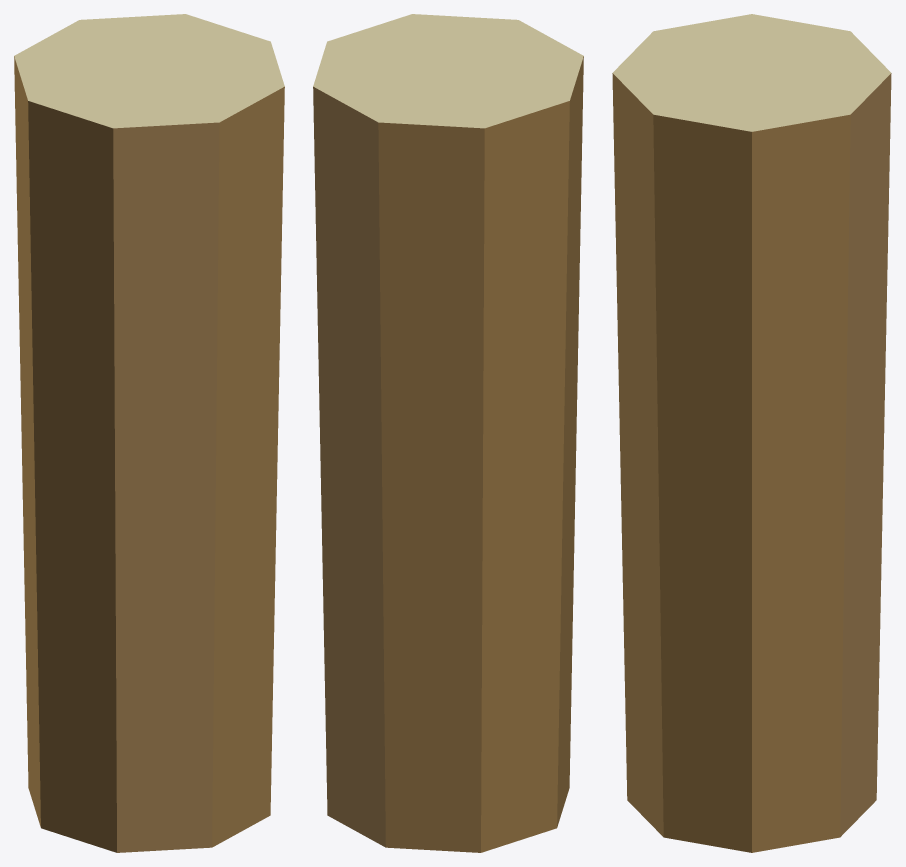
The model's file is garyCannonLightCollider_0.glb.
The picture shows the model from 3 angles, left to right: view 1: azimuth 30°, elevation 25°; view 2: azimuth 150°, elevation 25°; view 3: azimuth 270°, elevation 25°; orthographic projection.
Visible parts, largest first — view 1: garyCannonLightCollider; view 2: garyCannonLightCollider; view 3: garyCannonLightCollider.
Boxes of the visible parts, <box> form: garyCannonLightCollider: <box>14,14,284,852</box>; garyCannonLightCollider: <box>313,14,583,852</box>; garyCannonLightCollider: <box>612,14,891,852</box>.
Size of the model in its own units: 0.4292 by 1.23 by 0.4292.
